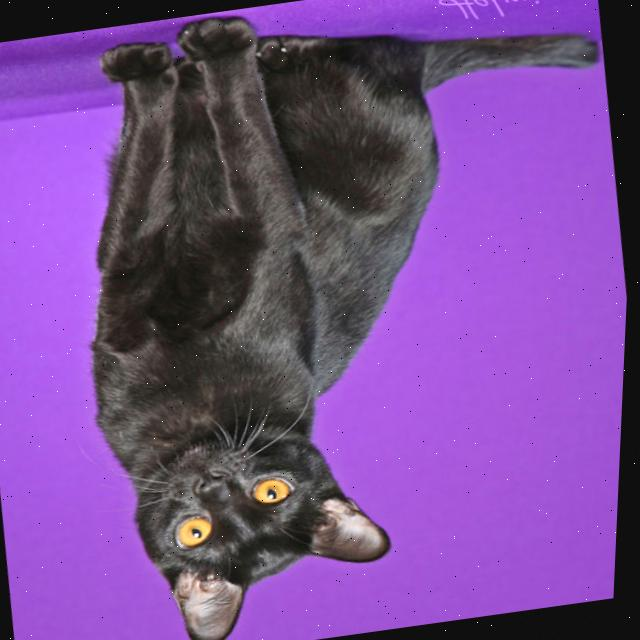Bombay: (25, 0, 640, 640)
